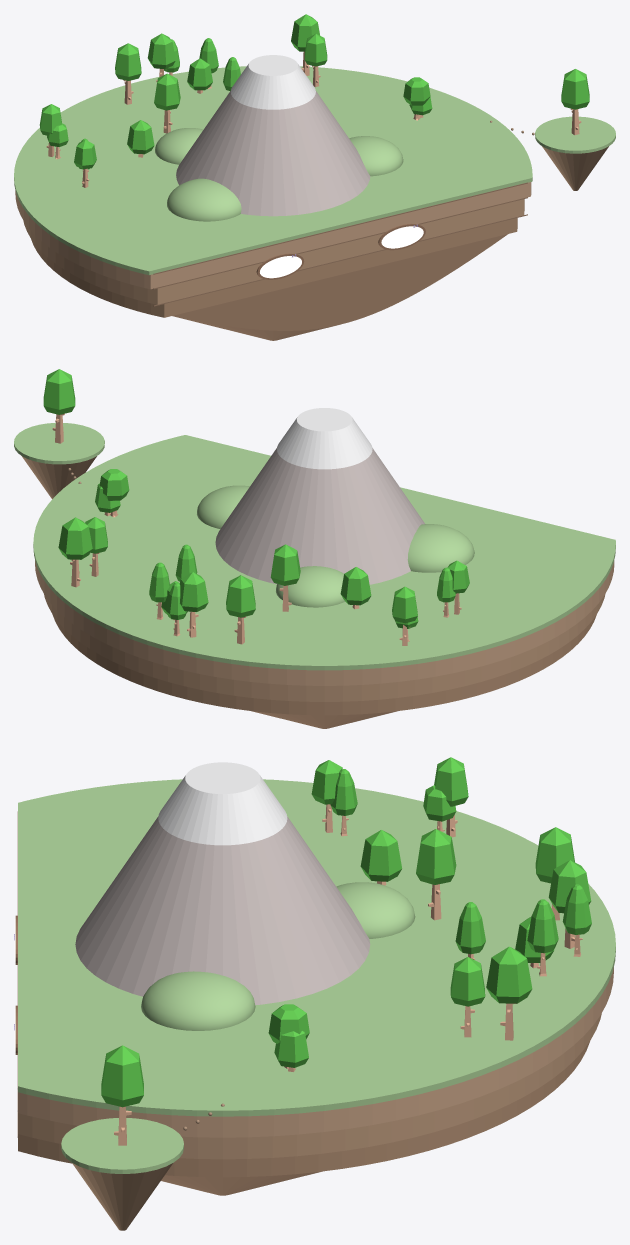
The model's file is elevation.glb.
The picture shows the model from 3 angles, top to bottom: view 1: azimuth 30°, elevation 25°; view 2: azimuth 150°, elevation 25°; view 3: azimuth 270°, elevation 25°; orthographic projection. The views are drawn at different scales.
Parts seen in each view (by area): view 1: flat-grass, mountain, Cone, cyl, cyl.001, cyl.002, Cone.001, sph, flat-islet, sph.001, Cone.002, tree_default.001 (+16 smaller); view 2: flat-grass, mountain, cyl, cyl.001, cyl.002, Cone.001, flat-islet, sph, sph.002, tree_default.001, sph.001, tree_default.007 (+14 smaller); view 3: flat-grass, mountain, cyl, cyl.001, Cone.001, cyl.002, sph.001, flat-islet, sph.002, Cone.002, tree_default.001, tree_default.007 (+16 smaller).
Part boxes in pixels (x1,y1,x2,y2): flat-grass: [14, 66, 532, 275]; mountain: [176, 90, 370, 216]; Cone: [172, 234, 507, 340]; cyl: [15, 182, 531, 289]; cyl.001: [23, 199, 524, 304]; cyl.002: [31, 218, 517, 317]; Cone.001: [230, 55, 315, 109]; sph: [167, 178, 241, 221]; flat-islet: [535, 116, 615, 153]; sph.001: [349, 136, 403, 176]; Cone.002: [542, 146, 608, 190]; tree_default.001: [561, 69, 589, 135]; flat-grass: [33, 435, 615, 670]; mountain: [215, 448, 424, 584]; cyl: [35, 560, 614, 685]; cyl.001: [44, 594, 605, 701]; cyl.002: [52, 614, 596, 715]; Cone.001: [277, 408, 372, 469]; flat-islet: [14, 422, 104, 464]; sph: [407, 524, 474, 572]; sph.002: [276, 566, 344, 607]; tree_default.001: [43, 369, 75, 443]; sph.001: [197, 485, 249, 528]; tree_default.007: [58, 517, 92, 587]; flat-grass: [18, 779, 615, 1116]; mountain: [75, 816, 370, 1005]; cyl: [18, 967, 613, 1137]; cyl.001: [18, 1013, 601, 1159]; Cone.001: [158, 762, 287, 845]; cyl.002: [18, 1041, 589, 1177]; sph.001: [141, 971, 255, 1030]; flat-islet: [61, 1118, 183, 1173]; sph.002: [336, 882, 415, 938]; Cone.002: [72, 1163, 172, 1230]; tree_default.001: [101, 1045, 143, 1145]; tree_default.007: [486, 946, 532, 1040].
Size of the model in its own units: 76.87 by 37.84 by 49.98.
